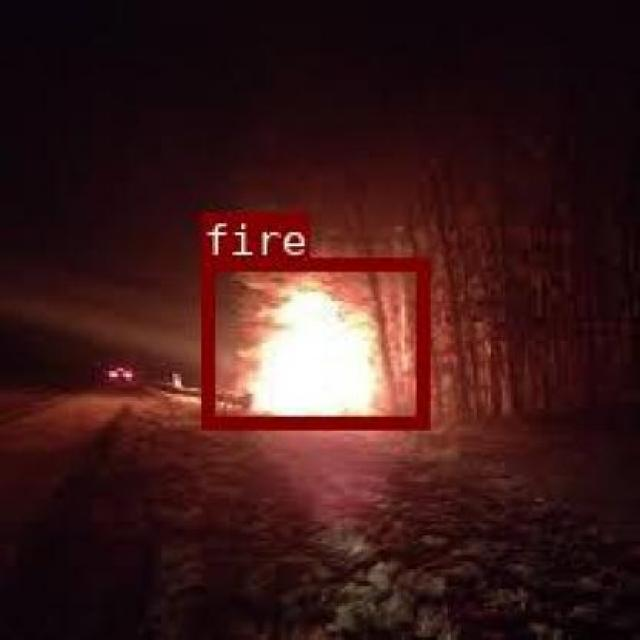Fire: (225, 168, 312, 341)
